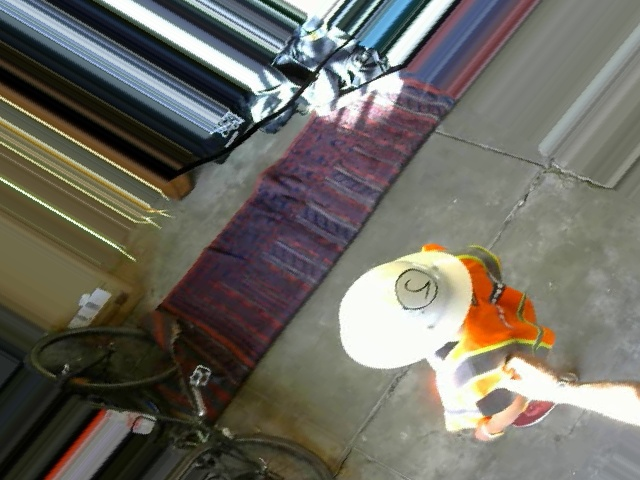two: (381, 262, 444, 317)
